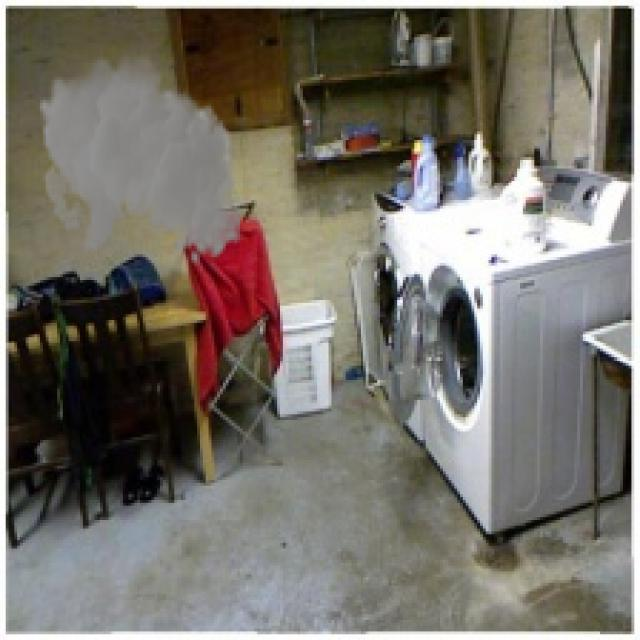Smoke: (37, 46, 243, 266)
